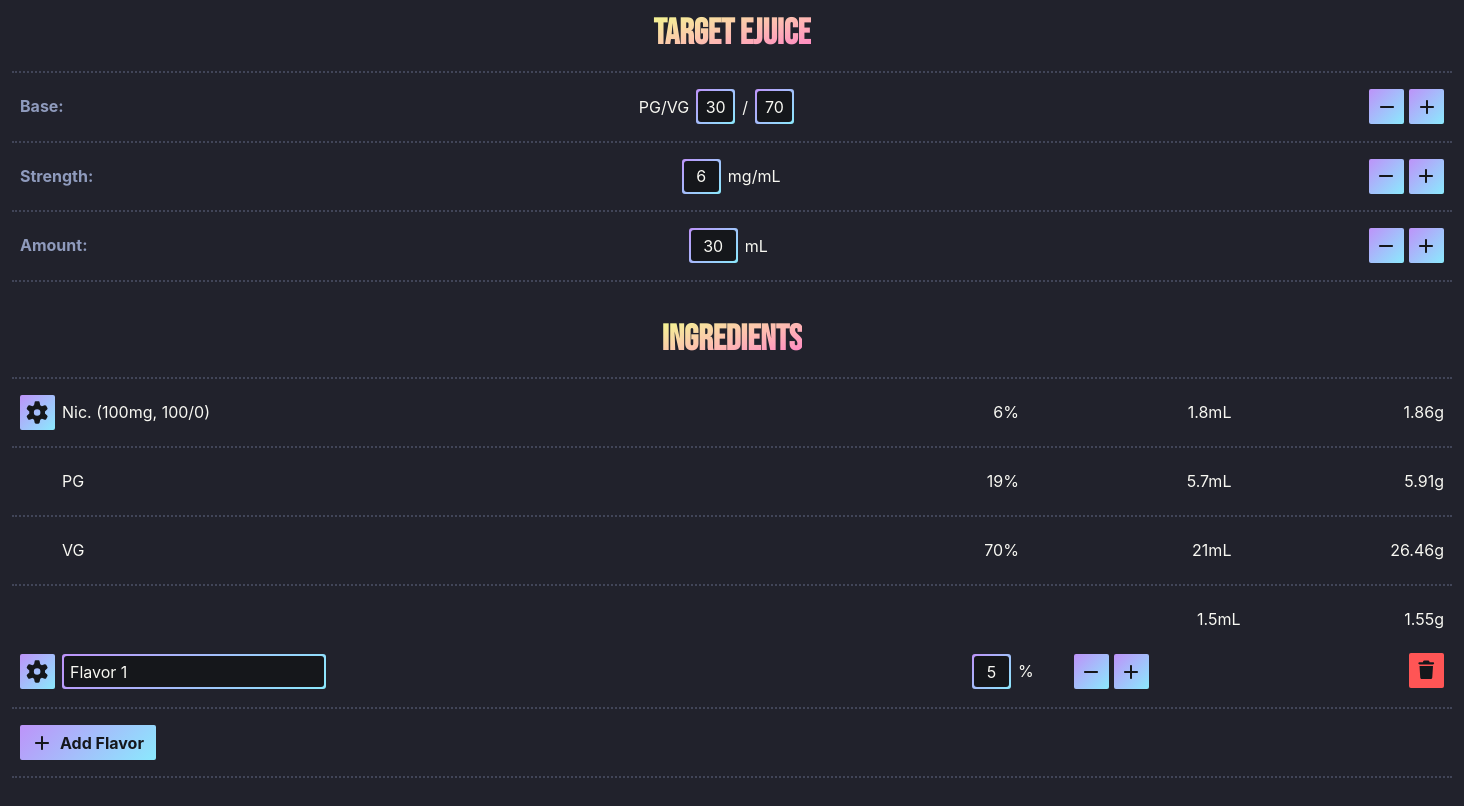
it: PG › is calculated correctly from the nicotine ratio
This screenshot has width=1464, height=806.
Click the button with test id "nicConfigBtn" at [38, 412], box [20,394,55,430]
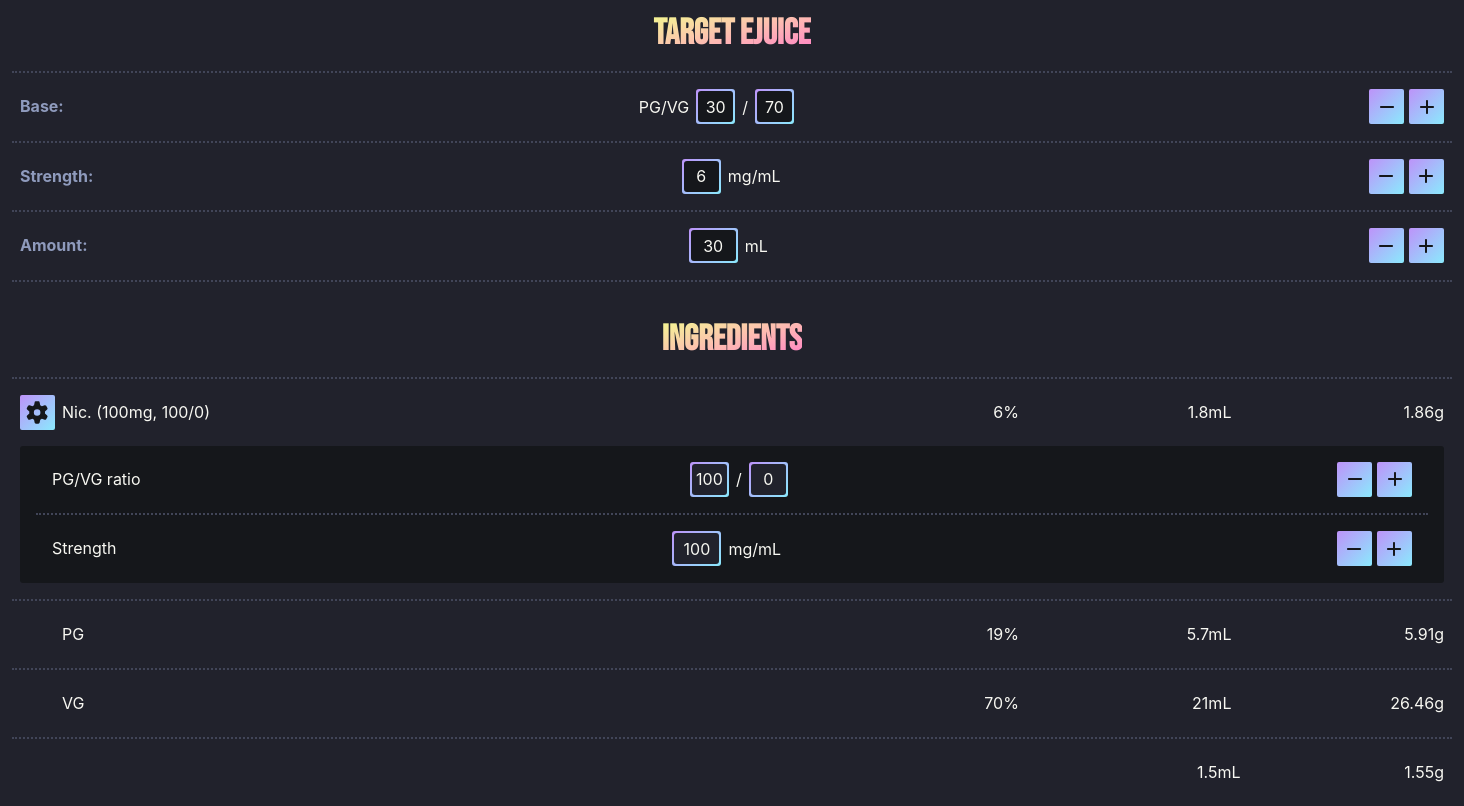
Replace the text in the number field with test id "nicConfigPgInput" with "50" at [709, 479], box [692,464,727,494]
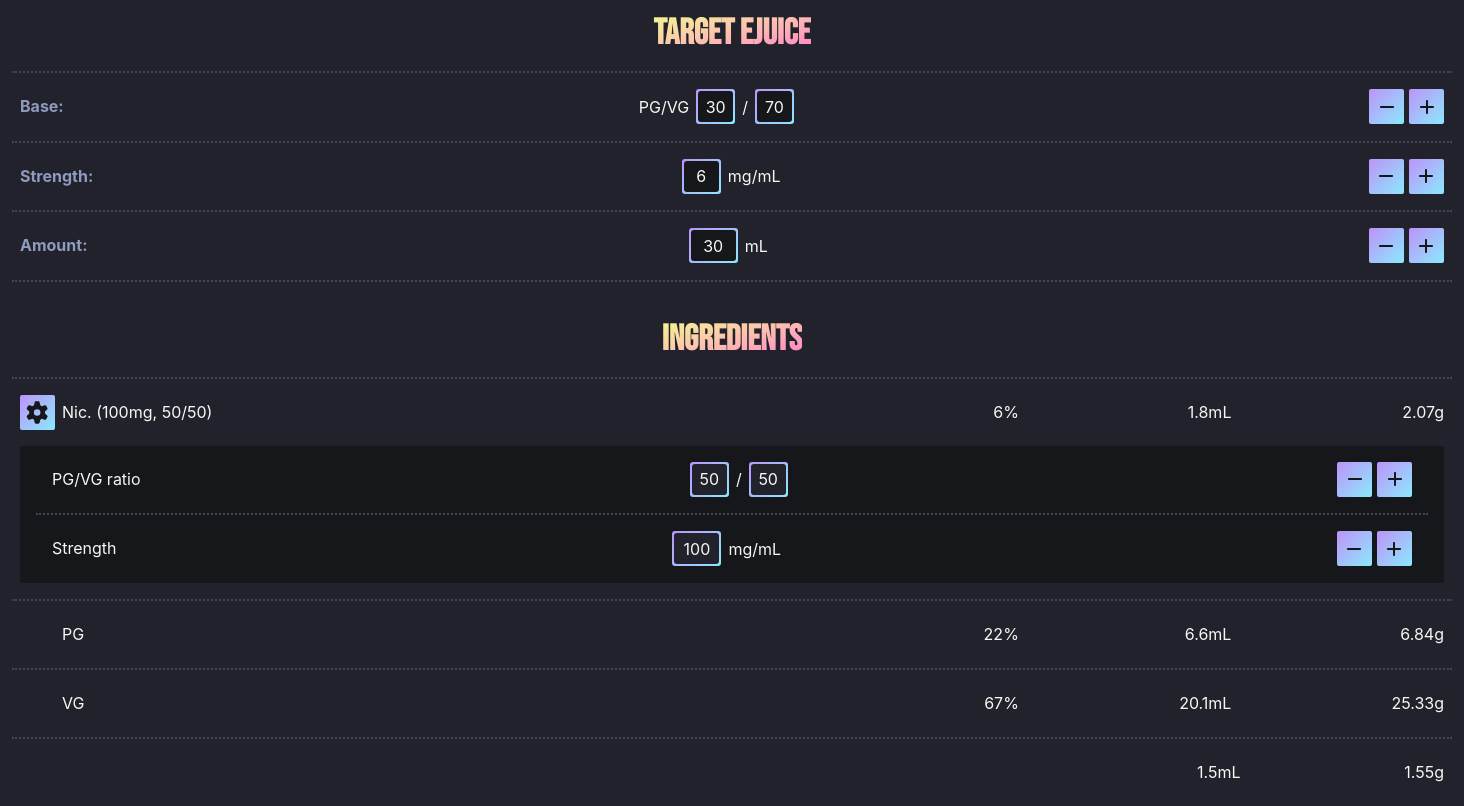
Check: the text "6.6mL" is shown, box [1185,624,1231,644]
Check: the text "6.84g" is shown, box [1400,624,1444,644]
